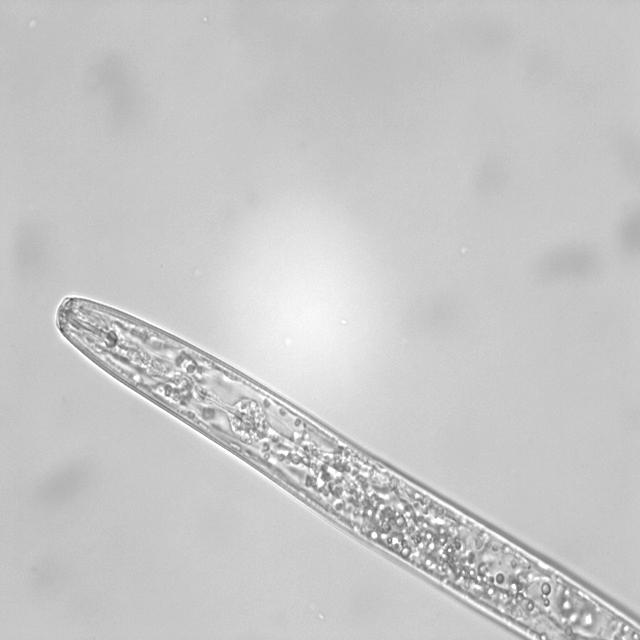Pratylenchus: (50, 290, 640, 640)
